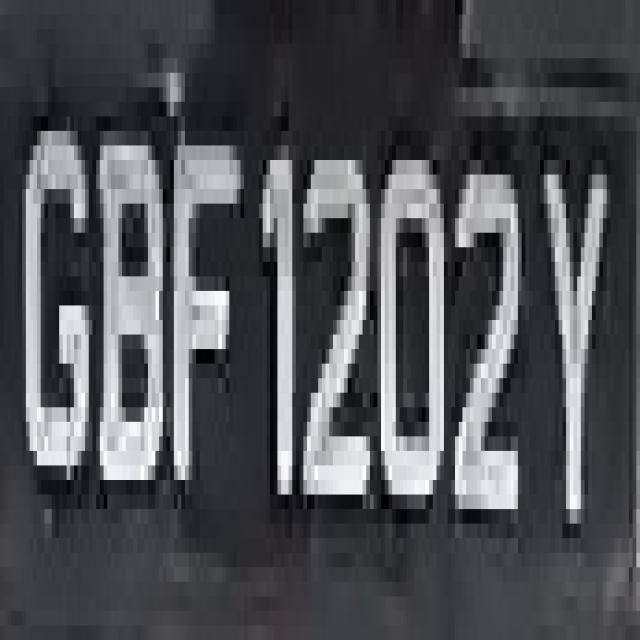0: (374, 73, 451, 582)
1: (259, 73, 307, 596)
2: (444, 102, 533, 625), (292, 102, 381, 553)
B: (89, 102, 170, 567)
F: (159, 73, 241, 538)
G: (7, 58, 85, 509)
Y: (536, 58, 626, 567)
